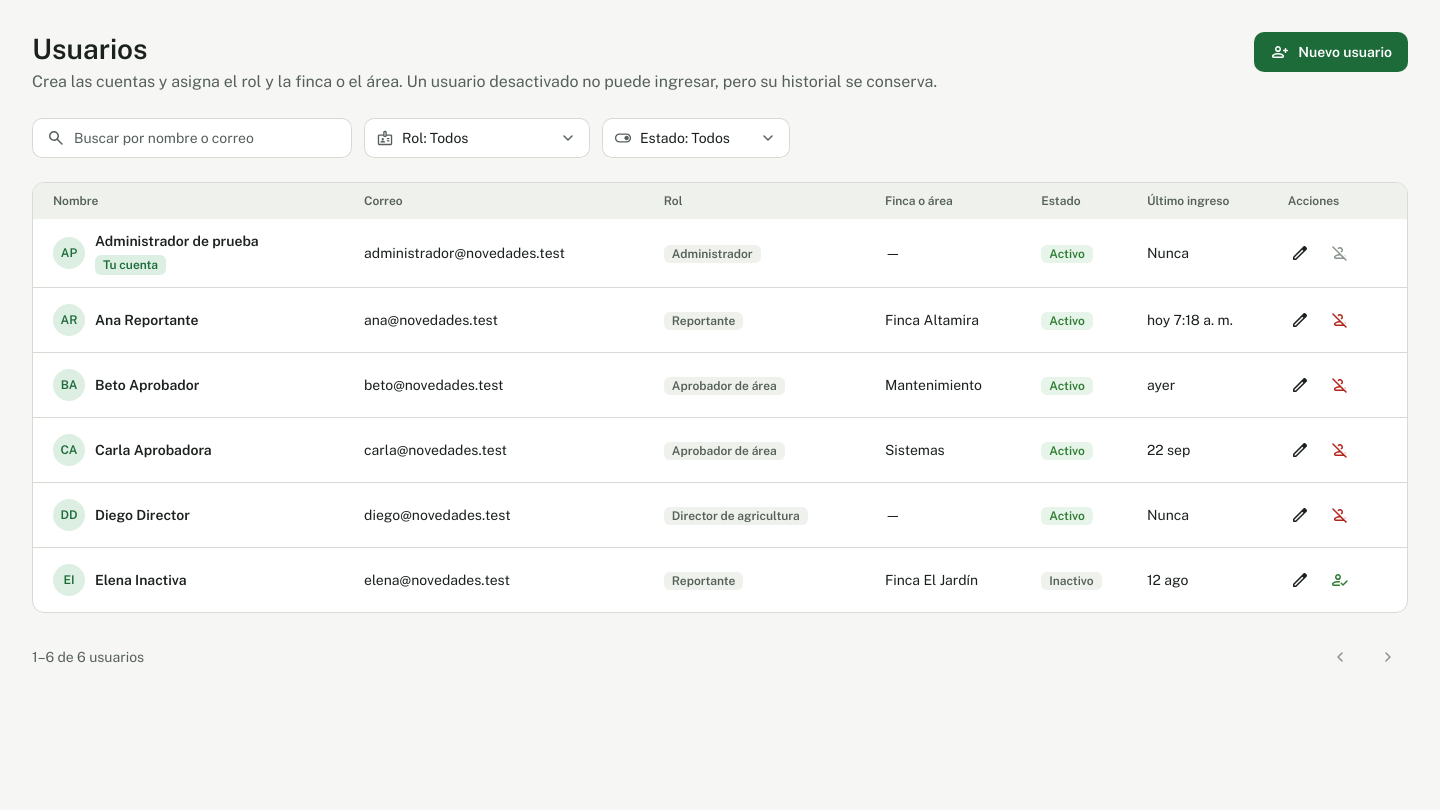
Test case: Pantalla 28-B · Desactivar y reactivar un usuario (RF-03 / CU-03 3a) › RF-03: advierte si es el único aprobador activo de su área
Expected: the table is shown, [33, 183, 1407, 612]
Click the button named "Desactivar Beto Aprobador".
click(1340, 385)  # box [1320, 365, 1360, 405]
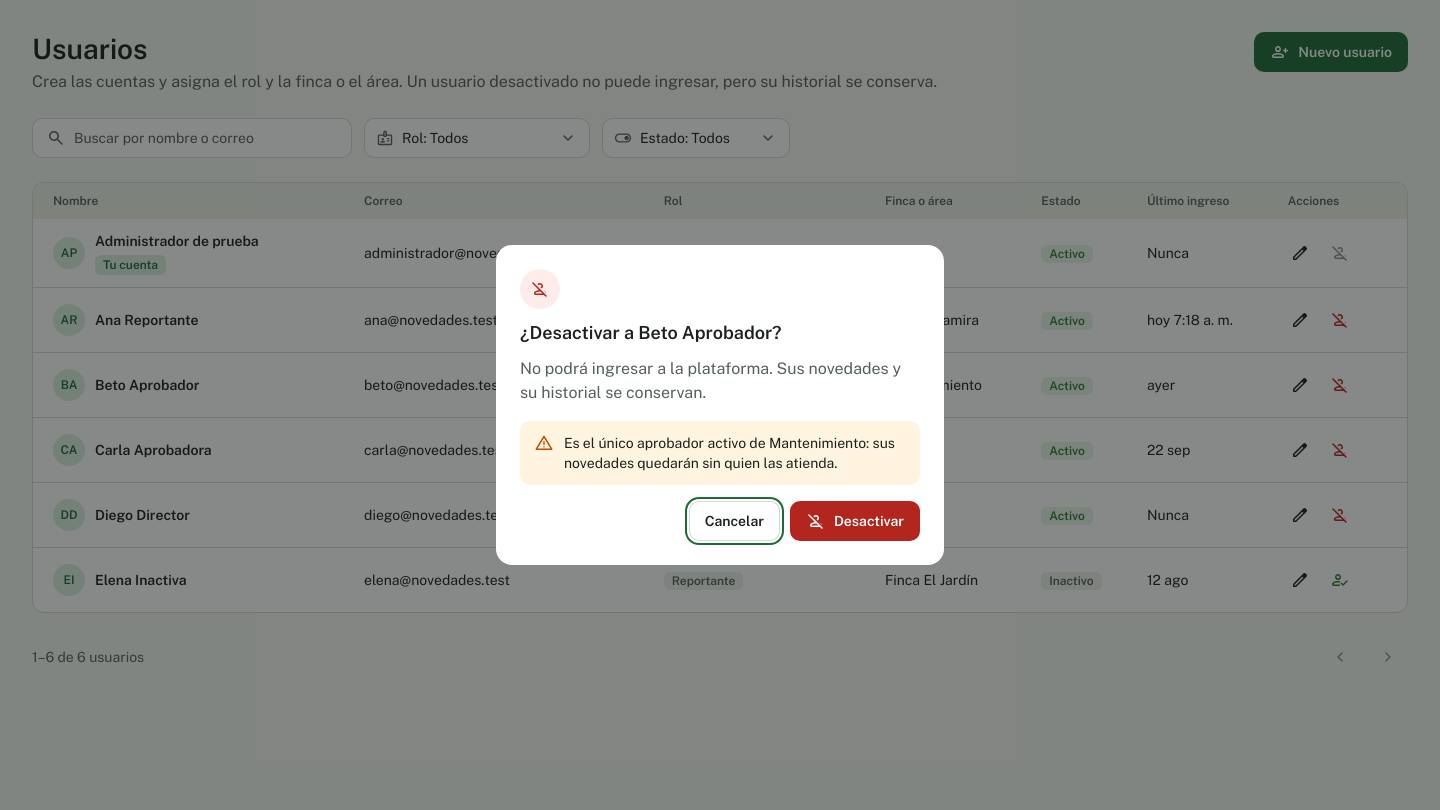
Now the text "Es el único aprobador activo de Mantenimiento: sus novedades quedarán sin quien las atienda." is shown, box [564, 435, 895, 471]
